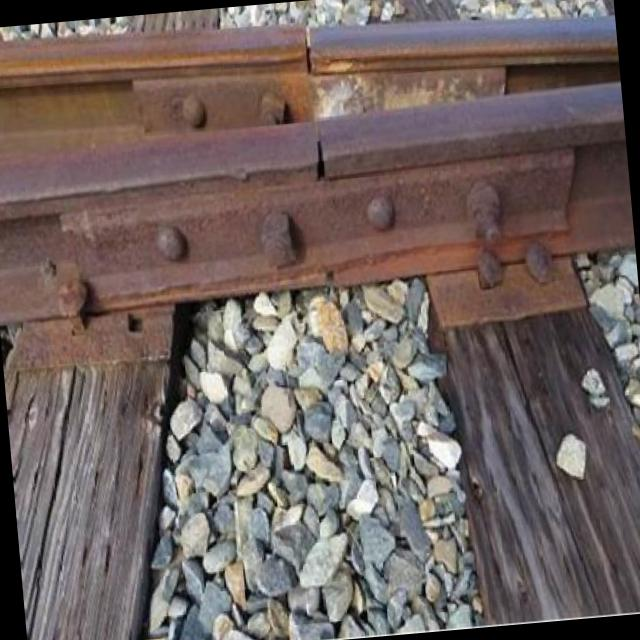defective: (56, 0, 610, 393)
